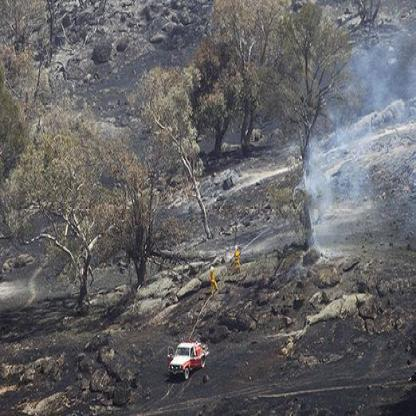other: (176, 336, 205, 375), (224, 237, 246, 275), (206, 260, 223, 294)
smoke: (308, 167, 324, 210)
